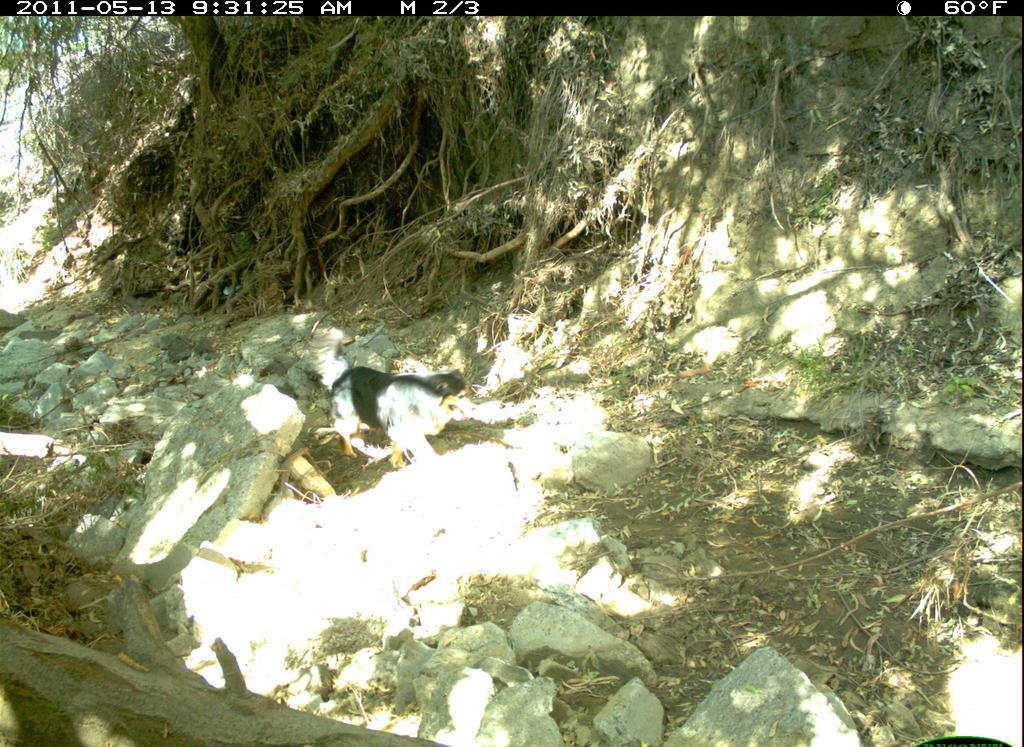dog: (307, 364, 505, 483)
